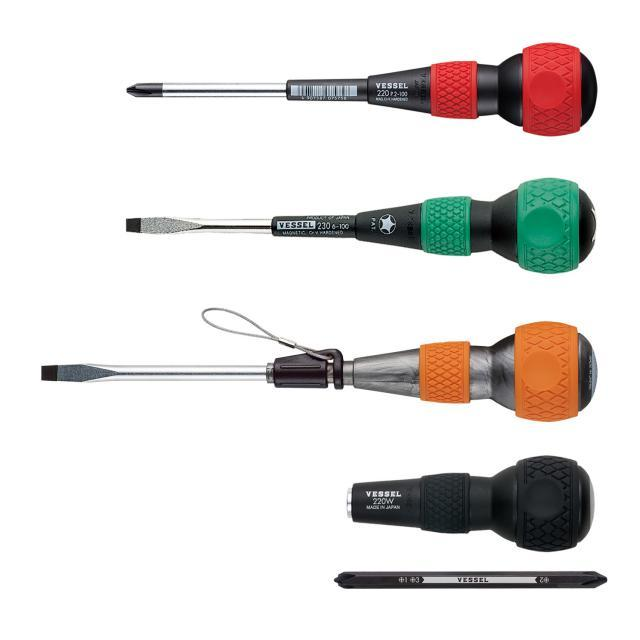screwdriver: (36, 317, 606, 425), (117, 40, 604, 144), (122, 174, 598, 276)
